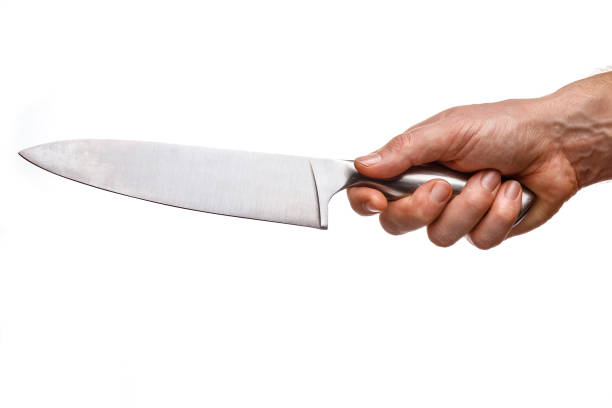knife: (15, 136, 542, 232)
